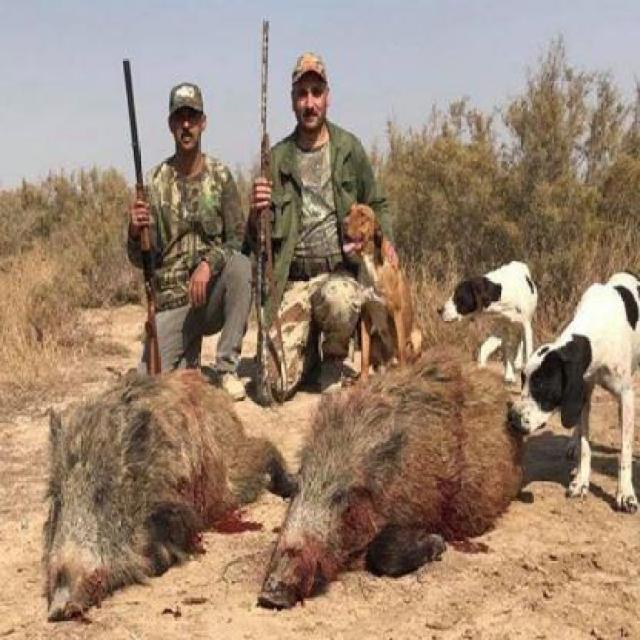wildboar: (253, 336, 536, 627), (38, 352, 316, 628)
